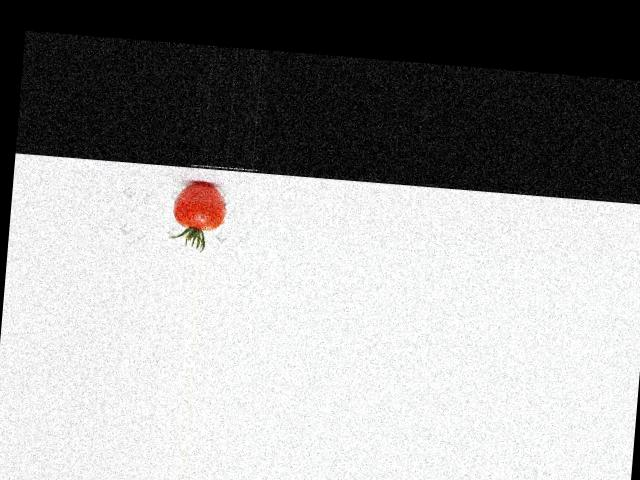tomato: (171, 180, 226, 231)
